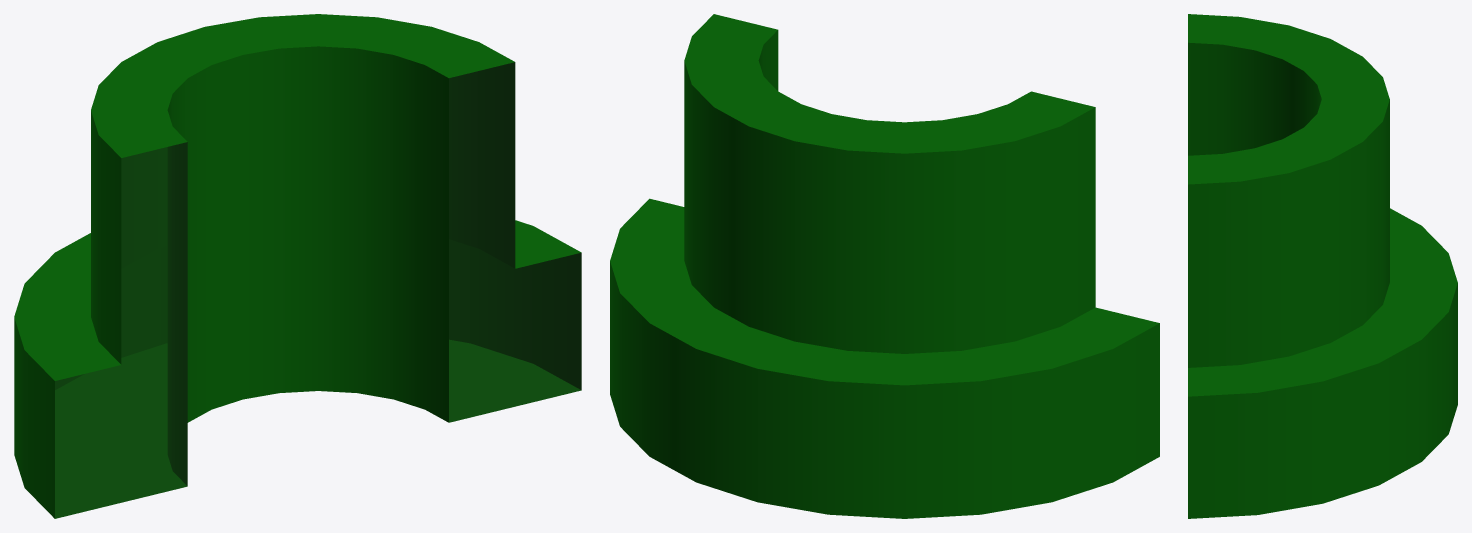
The picture shows the model from 3 angles, left to right: view 1: azimuth 30°, elevation 25°; view 2: azimuth 150°, elevation 25°; view 3: azimuth 270°, elevation 25°; orthographic projection. The views are drawn at different scales.
Parts seen in each view (by area): view 1: SketchUp (×3); view 2: SketchUp; view 3: SketchUp.
Boxes of the visible parts, x1=… form: SketchUp (×3): x1=14, y1=14, x2=581, y2=518; SketchUp: x1=610, y1=14, x2=1159, y2=518; SketchUp: x1=1188, y1=14, x2=1457, y2=518.
Size of the model in its own units: 1575 by 787 by 984.
